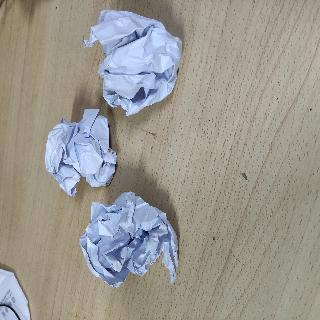8/可回收垃圾/纸: (80, 8, 184, 118), (79, 190, 180, 290), (44, 107, 117, 198)
